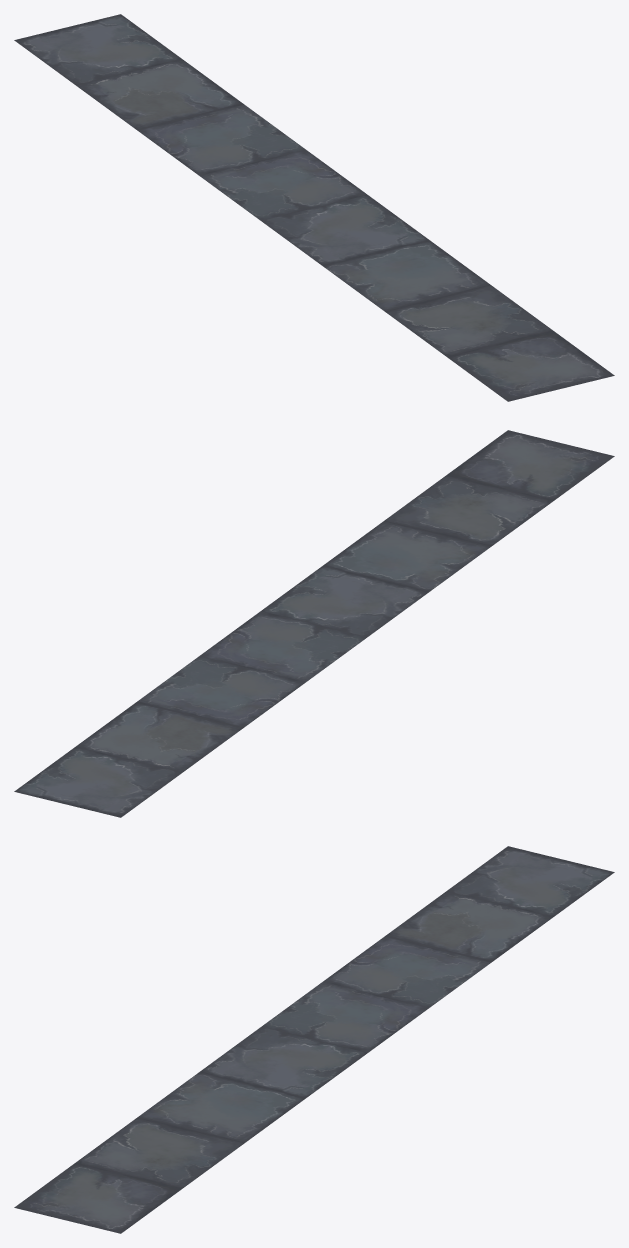
File: Castle Ground + Dark 1x8.fbx
The picture shows the model from 3 angles, top to bottom: view 1: azimuth 30°, elevation 25°; view 2: azimuth 150°, elevation 25°; view 3: azimuth 330°, elevation 25°; orthographic projection.
Visible parts, largest first — view 1: Castle Ground + Dark 1x8; view 2: Castle Ground + Dark 1x8; view 3: Castle Ground + Dark 1x8.
Boxes of the visible parts, <box> form: Castle Ground + Dark 1x8: <box>14,14,614,401</box>; Castle Ground + Dark 1x8: <box>14,430,614,817</box>; Castle Ground + Dark 1x8: <box>14,846,614,1233</box>.
Bounding box in the file's own units: 0.75 × 6.87e-07 × 6.
